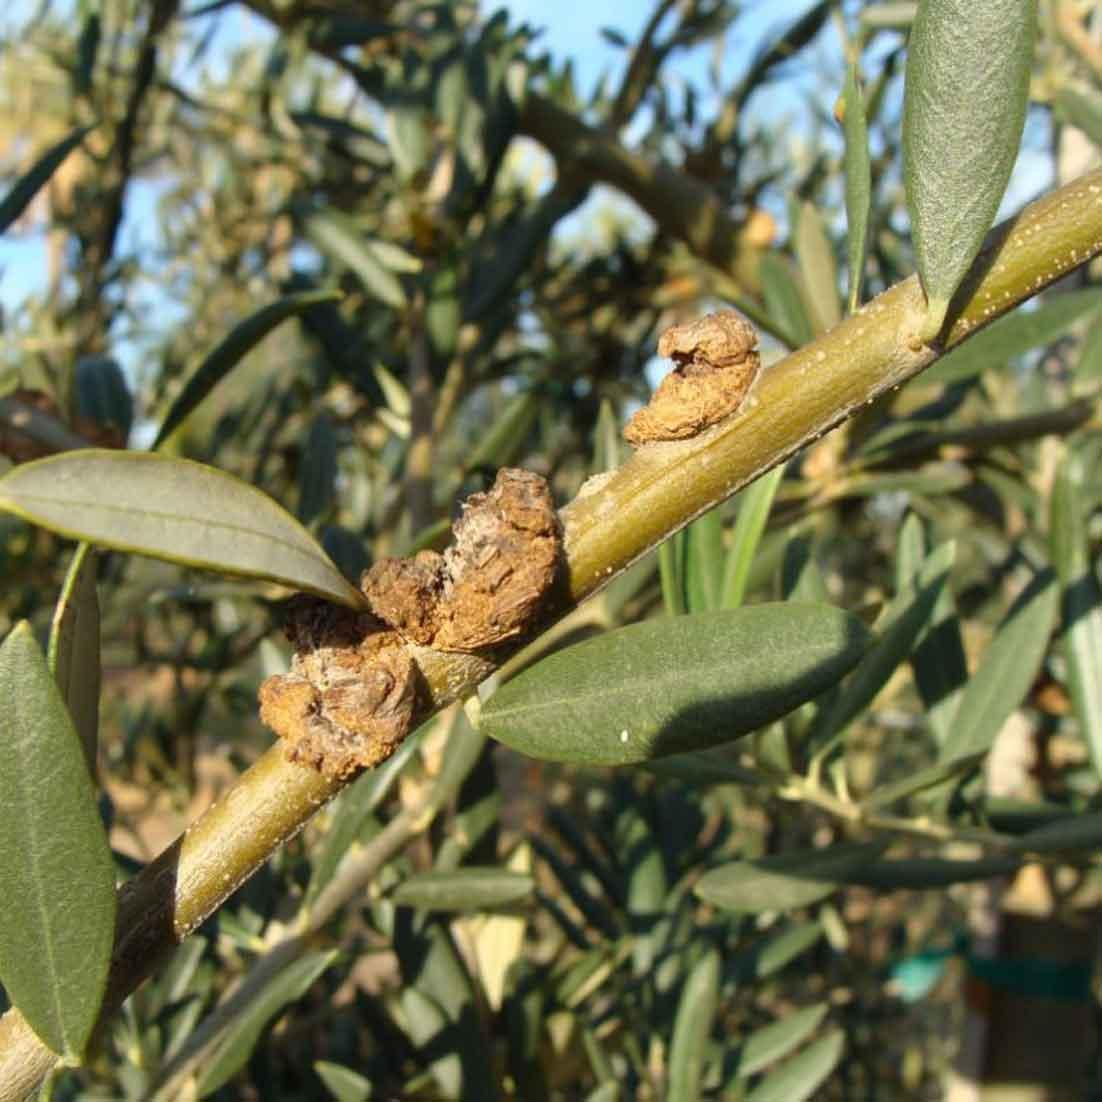Tuberculosis: (350, 459, 564, 657), (253, 590, 419, 786), (614, 304, 765, 450)
